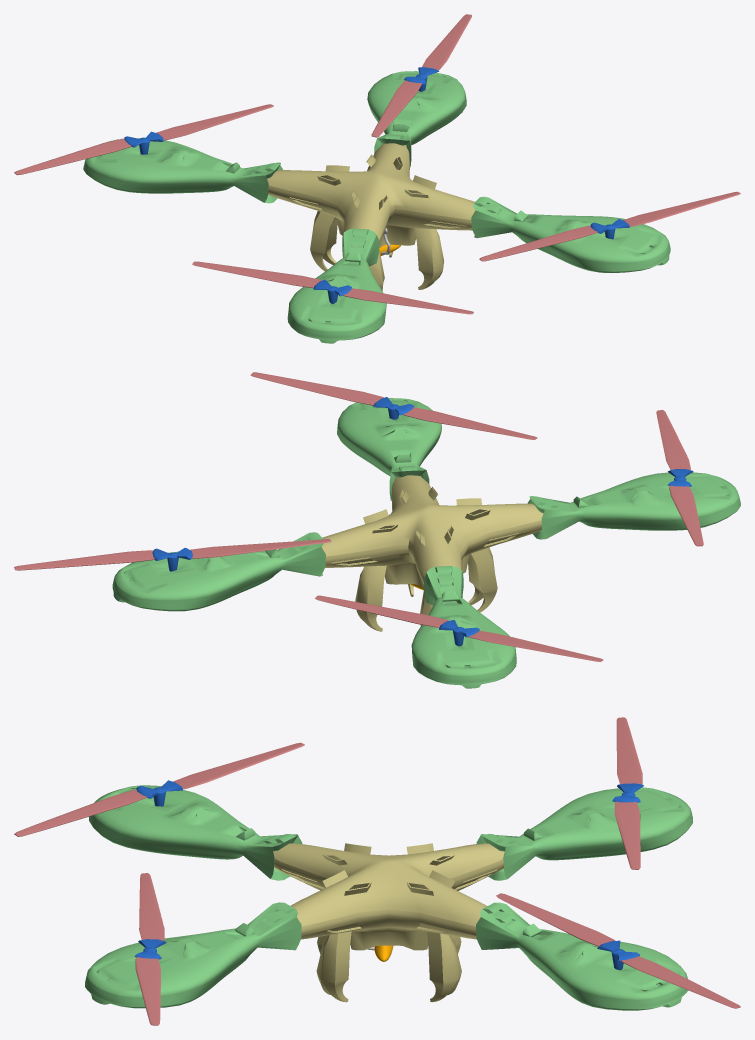
File: 3DModelDrone.fbx
3 views of the same model, one above another, from view 1: azimuth 30°, elevation 25°; view 2: azimuth 150°, elevation 25°; view 3: azimuth 270°, elevation 25° (orthographic). The views are drawn at different scales.
Parts seen in each view (by area): view 1: Oil_Tank, bracing_three, bracing_one, bracing_two, bracing_four, fan_part_two, fan_part_one, fan_part_three, fan_part_four; view 2: Oil_Tank, bracing_four, bracing_two, bracing_one, bracing_three, fan_part_four, fan_part_three, fan_part_one, fan_part_two; view 3: Oil_Tank, bracing_three, bracing_four, bracing_two, bracing_one, fan_part_two, fan_part_four, fan_part_one, fan_part_three, fan_two, fan_four.
Boxes of the visible parts, left/top/right/bottom form: Oil_Tank: left=267, top=143, right=475, bottom=290; bracing_three: left=471, top=196, right=670, bottom=272; bracing_one: left=83, top=138, right=282, bottom=203; bracing_two: left=287, top=228, right=386, bottom=343; bracing_four: left=367, top=71, right=466, bottom=167; fan_part_two: left=192, top=261, right=473, bottom=314; fan_part_one: left=14, top=104, right=273, bottom=175; fan_part_three: left=479, top=191, right=740, bottom=261; fan_part_four: left=371, top=14, right=471, bottom=137; Oil_Tank: left=298, top=475, right=543, bottom=631; bracing_four: left=112, top=532, right=325, bottom=611; bracing_two: left=527, top=472, right=740, bottom=539; bracing_one: left=411, top=565, right=516, bottom=688; bracing_three: left=337, top=398, right=441, bottom=500; fan_part_four: left=14, top=539, right=331, bottom=570; fan_part_three: left=250, top=372, right=537, bottom=439; fan_part_one: left=315, top=595, right=603, bottom=661; fan_part_two: left=656, top=410, right=703, bottom=546; Oil_Tank: left=273, top=843, right=507, bottom=1002; bracing_three: left=85, top=902, right=301, bottom=1008; bracing_four: left=476, top=902, right=688, bottom=1010; bracing_two: left=89, top=785, right=302, bottom=880; bracing_one: left=476, top=787, right=692, bottom=880; fan_part_two: left=14, top=742, right=304, bottom=836; fan_part_four: left=496, top=893, right=740, bottom=1008; fan_part_one: left=614, top=717, right=642, bottom=869; fan_part_three: left=135, top=873, right=164, bottom=1025; fan_two: left=136, top=780, right=182, bottom=806; fan_four: left=597, top=940, right=639, bottom=970.
Bounding box in the file's own units: 13116 × 2491 × 13256.
